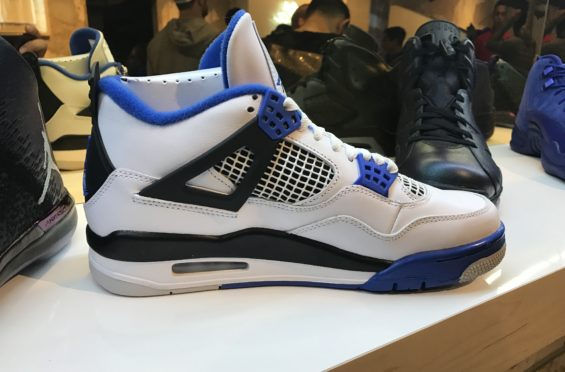Air Jordan 4 Motorsport: (74, 1, 512, 298)
